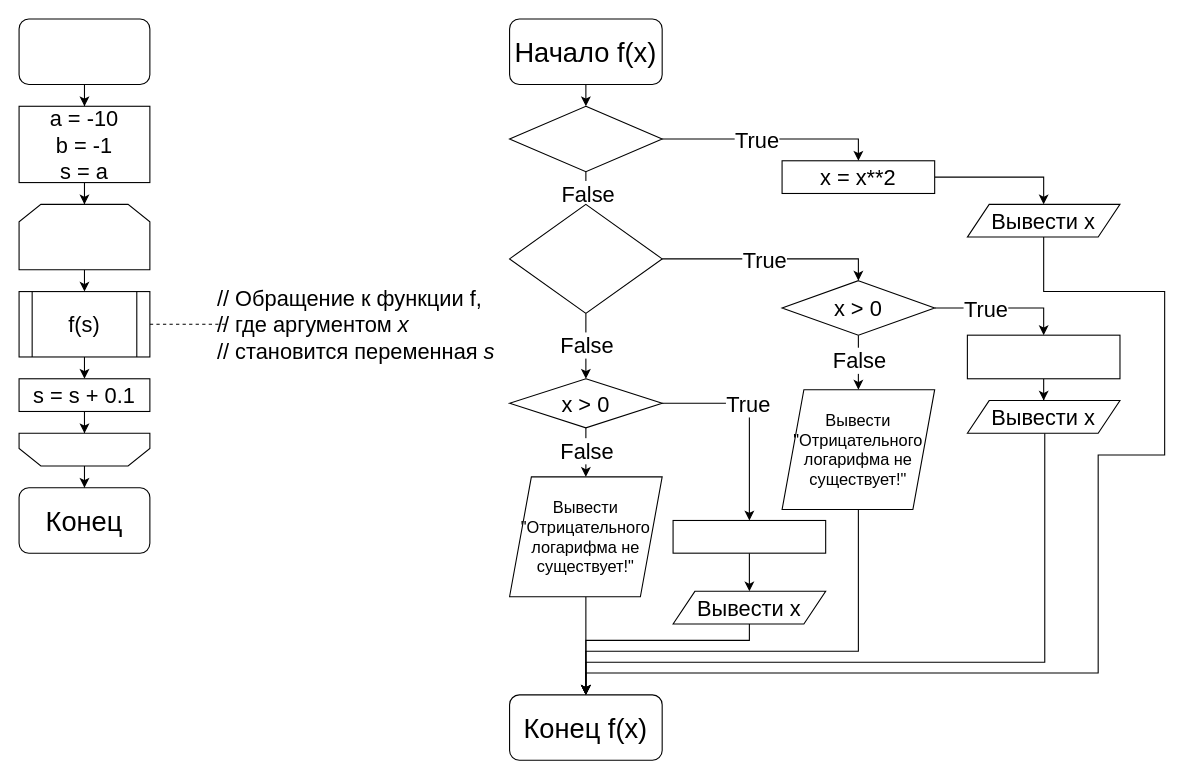
Image size: 1192x779. Some labels were removed from this diagram. Here are the shapes that lost their labels. From the top down, the box of each, then its label:
(18, 18, 150, 84): Начало
(508, 105, 662, 172): x < -8
(18, 203, 150, 270): "Цикл while" s >= b
(508, 203, 662, 313): x < 3
(966, 334, 1120, 379): x = lg(x) / cos(x) + cos(x)
(18, 432, 150, 466): "Цикл while"
(672, 519, 826, 553): x = lg(x) * e**x
